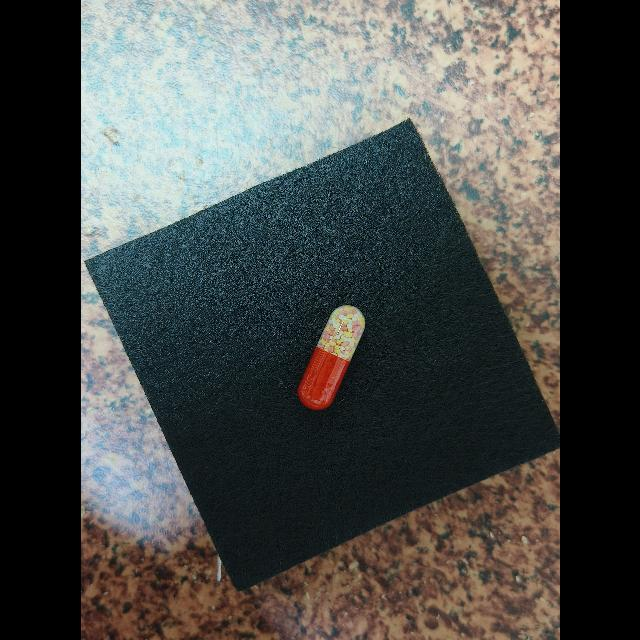Intact Capsule: (297, 305, 365, 410)
